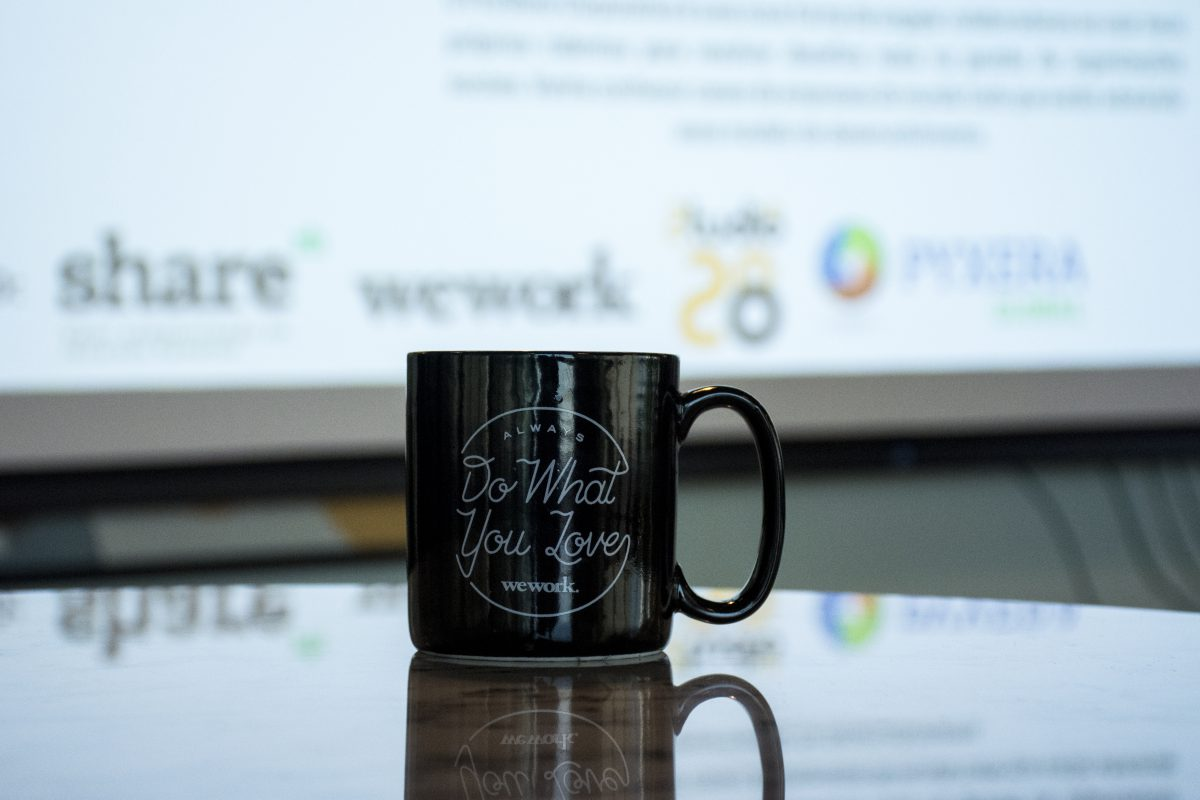wework: (498, 574, 577, 596)
